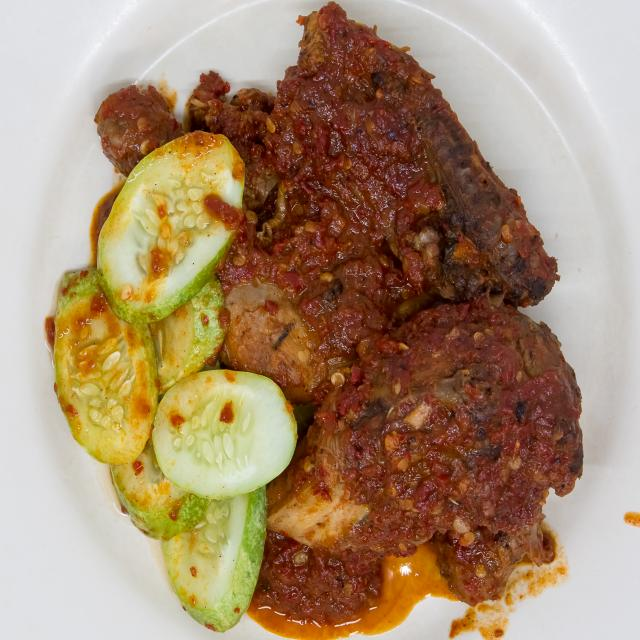Ayam-Bumbu-Rujak: (78, 2, 590, 618)
